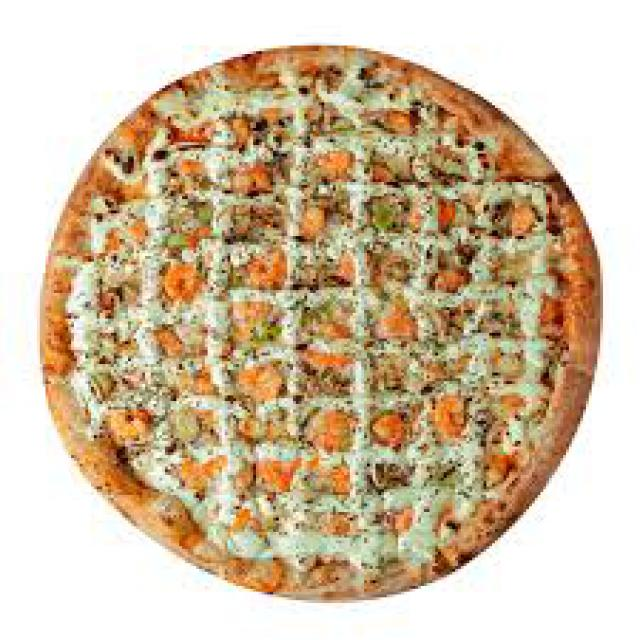camarao: (429, 396, 472, 449), (238, 252, 292, 293), (238, 360, 286, 404), (104, 410, 153, 446), (225, 167, 273, 203), (163, 264, 203, 302)
pizza: (15, 44, 600, 607)
